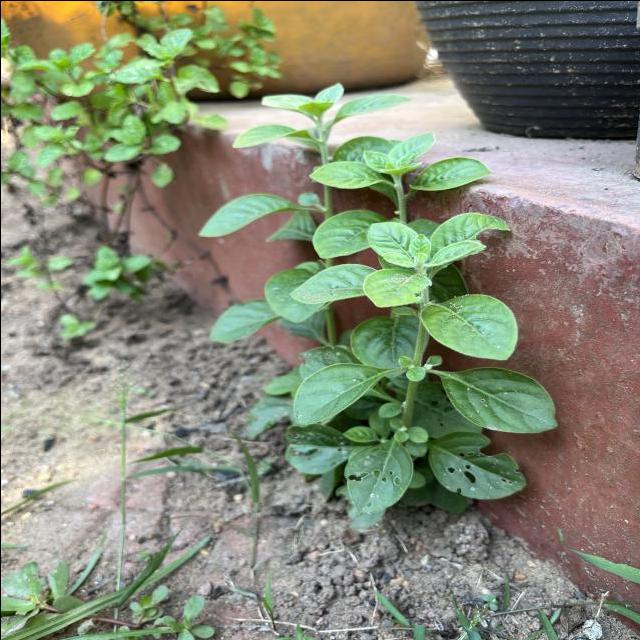Aerva lanata: (439, 364, 559, 434), (416, 291, 520, 362), (286, 260, 382, 304)
